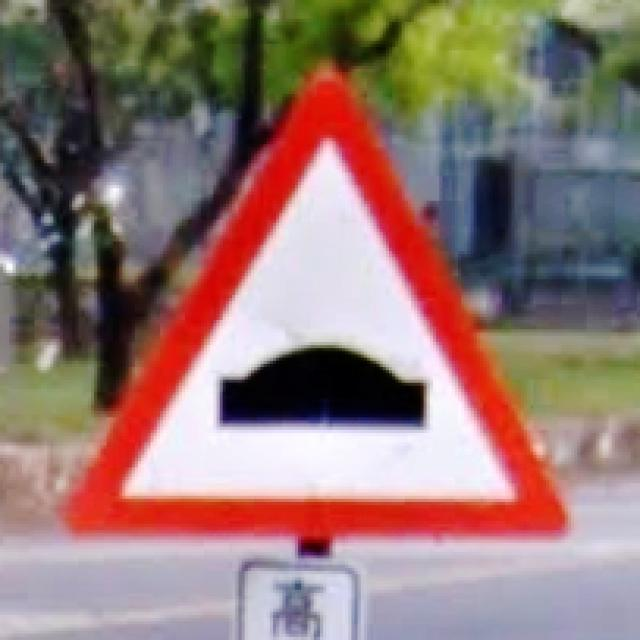hump: (60, 75, 569, 538)
